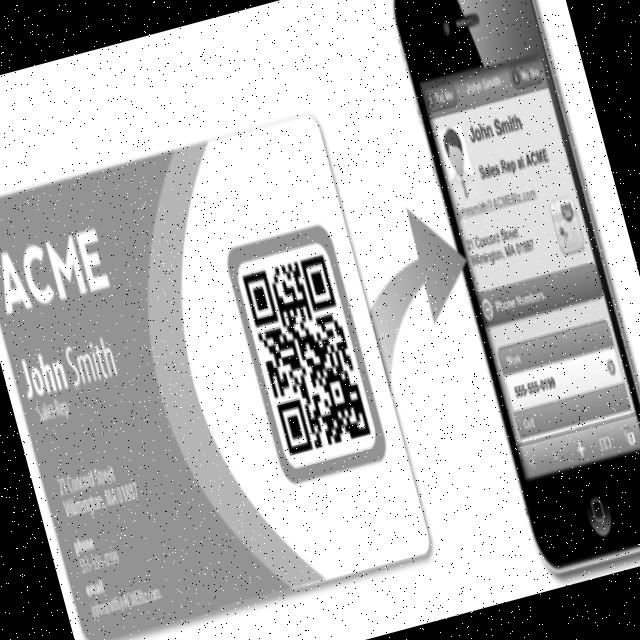QR-codes: (240, 252, 375, 460)
